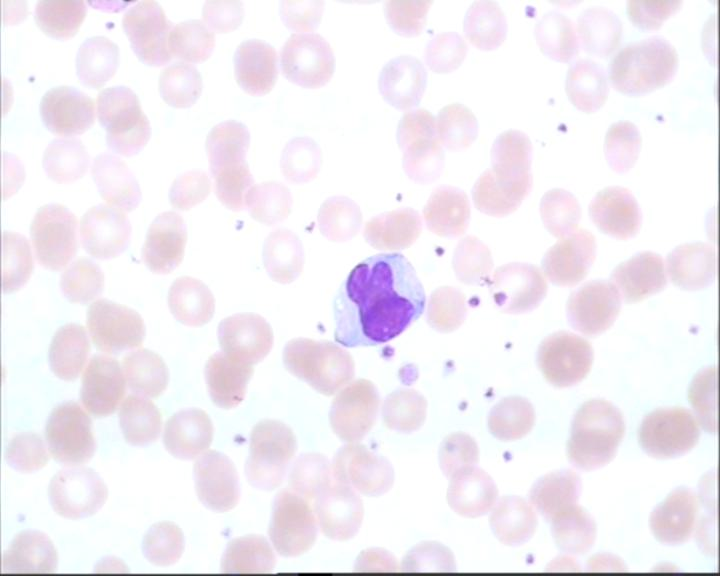mono: (325, 248, 431, 353)
